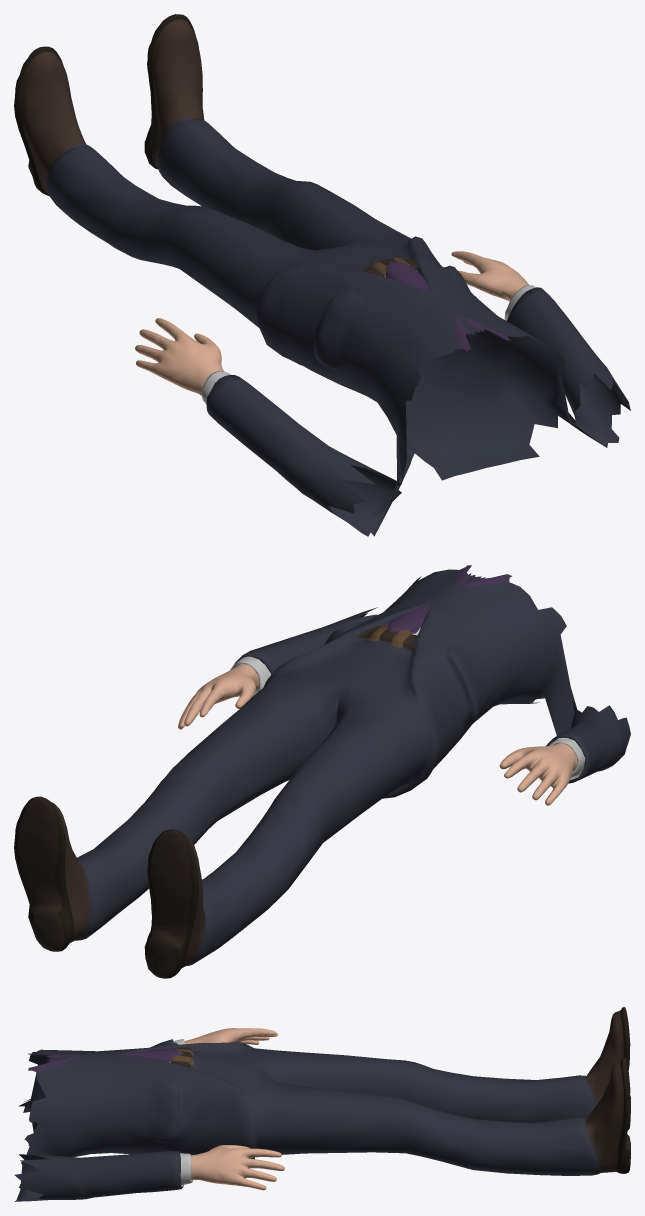
Rendered from ExportLibraryManOnTheFloor.FBX.
3 views of the same model, one above another, from view 1: azimuth 30°, elevation 25°; view 2: azimuth 150°, elevation 25°; view 3: azimuth 270°, elevation 25° (orthographic). The views are drawn at different scales.
Parts seen in each view (by area): view 1: library_man_on_the_floor; view 2: library_man_on_the_floor; view 3: library_man_on_the_floor.
Part boxes in pixels (box(x1,y1,x2,y2)): library_man_on_the_floor: box(14, 14, 630, 536); library_man_on_the_floor: box(14, 565, 630, 978); library_man_on_the_floor: box(14, 1007, 630, 1201).
Bounding box in the file's own units: 41.31 × 75.9 × 21.16.
